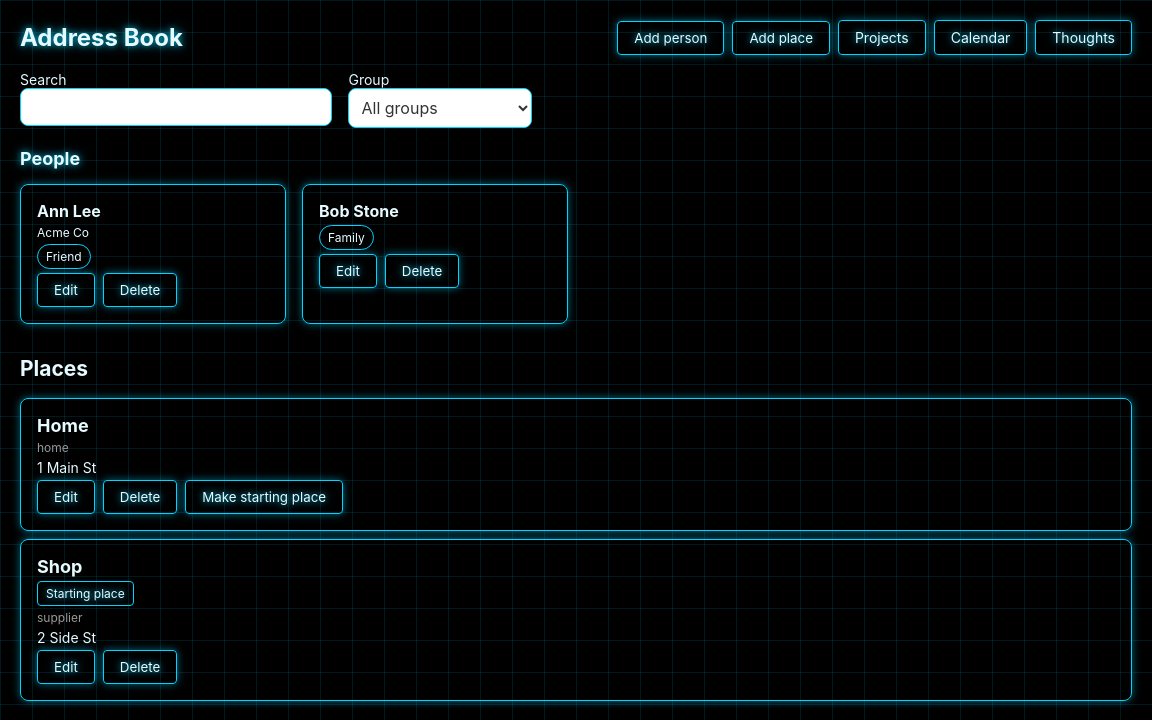
Scenario: AddressBookPage pop-up › header Add buttons open empty pop-ups (phone: false)
Click the button "Add person" at point(671, 38), box [617,20,724,54]
(page scrolled)
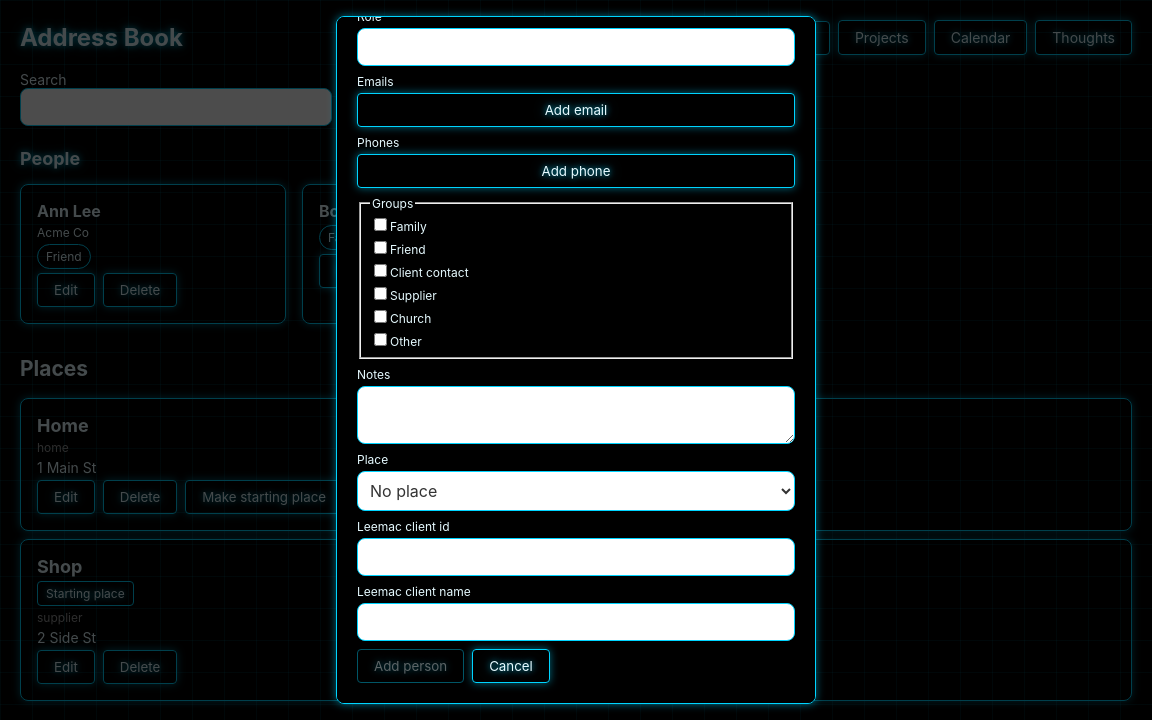
Click the button "Cancel" at point(511, 666), box [472,648,550,682]
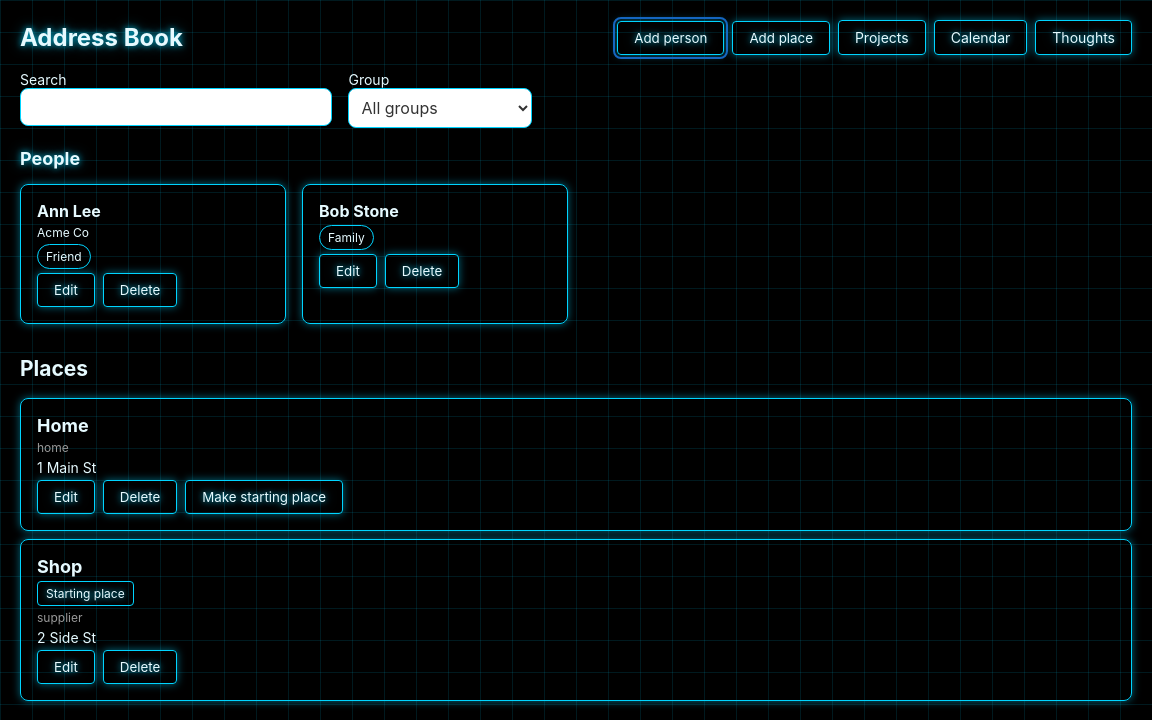
Now the dialog is gone
Click the button "Add place" at point(781, 38), box [732,20,830,54]
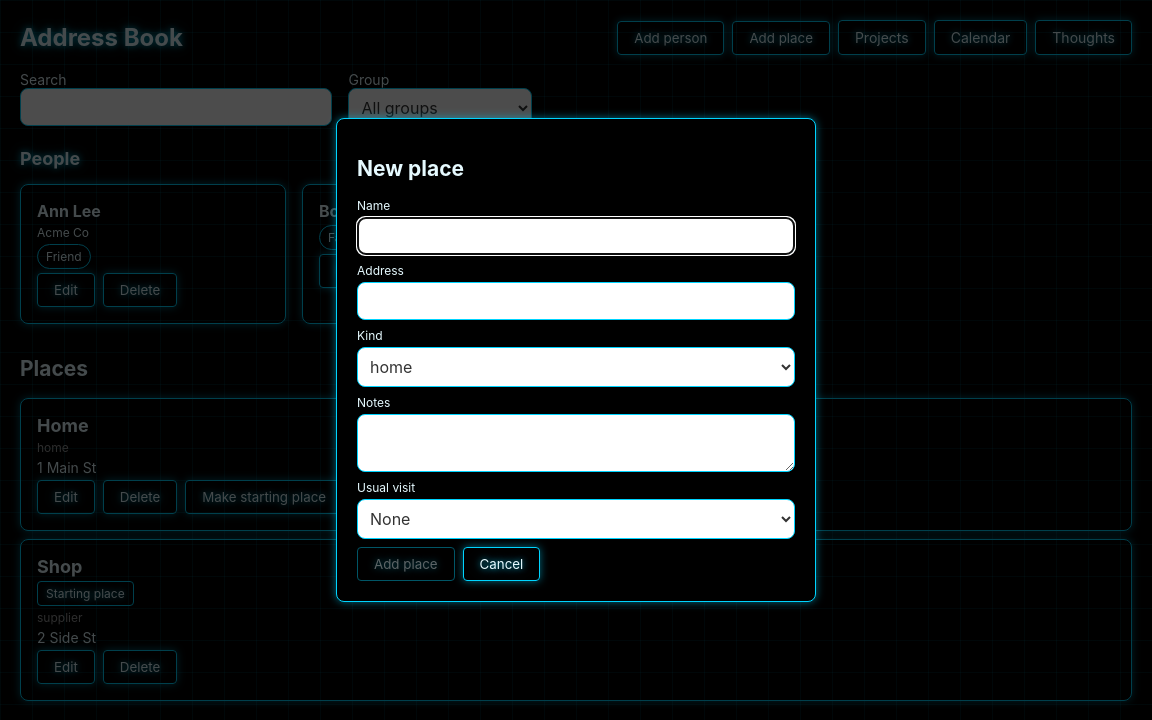
Now the heading "New place" is shown, box [357,156,464,181]
Now the field labelled "Name" is empty, box [357,217,795,255]
